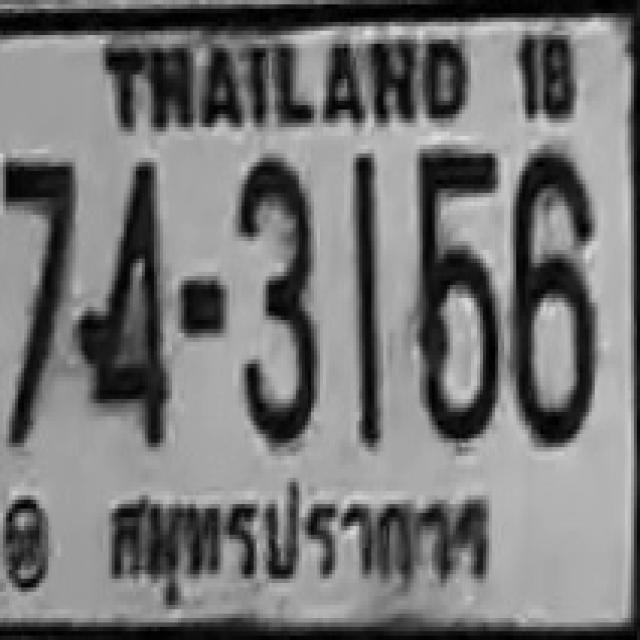1: (349, 151, 379, 445)
3: (234, 151, 315, 445)
4: (74, 156, 168, 440)
5: (415, 144, 500, 442)
6: (509, 147, 596, 445)
7: (0, 155, 75, 445)
SamutPrakan: (100, 468, 502, 612)
